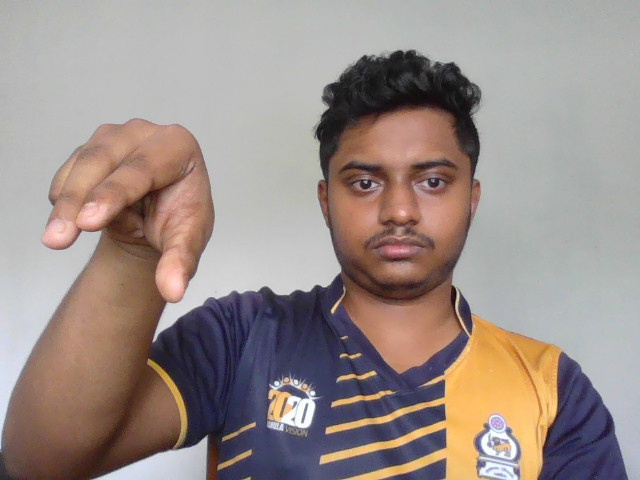No: (45, 111, 219, 305)
